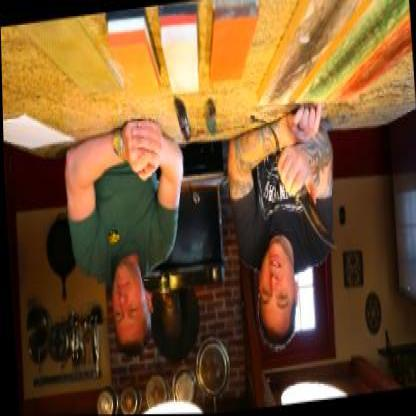knife: (275, 160, 338, 265)
